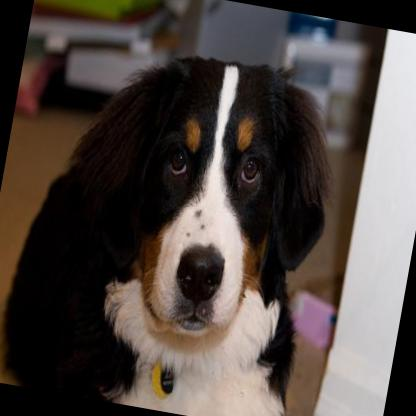Bernese_mountain_dog: (0, 28, 347, 416)
